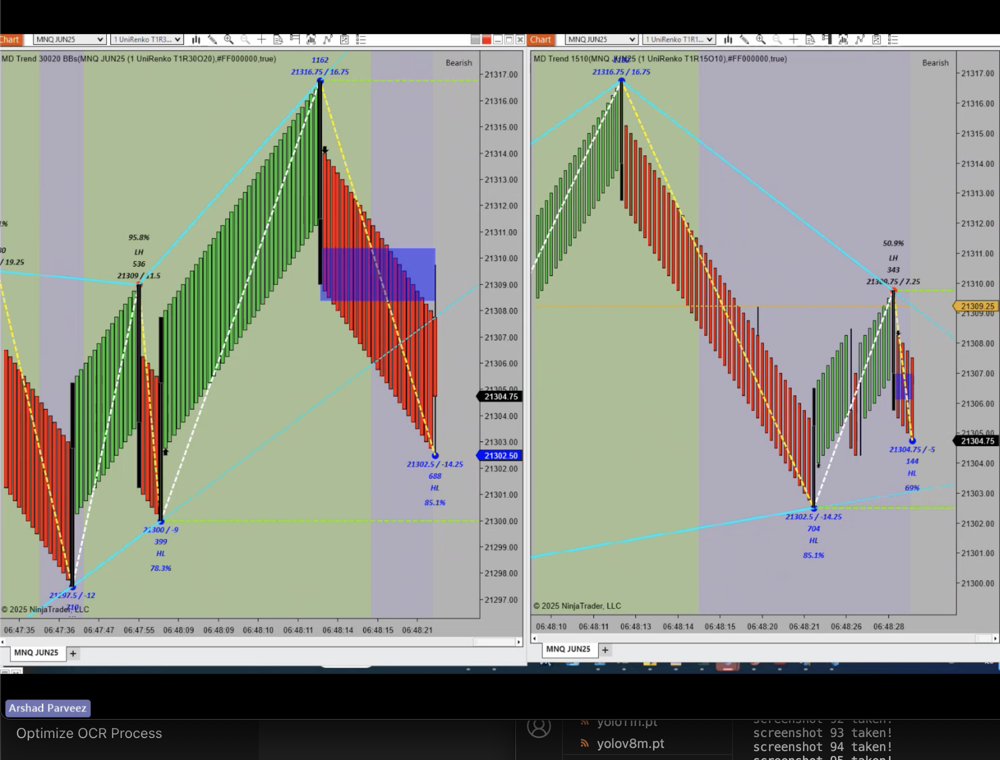HL: (804, 529, 827, 551), (423, 478, 448, 497), (150, 543, 174, 562), (903, 464, 926, 483)
LH: (884, 249, 908, 267), (127, 242, 150, 259)
